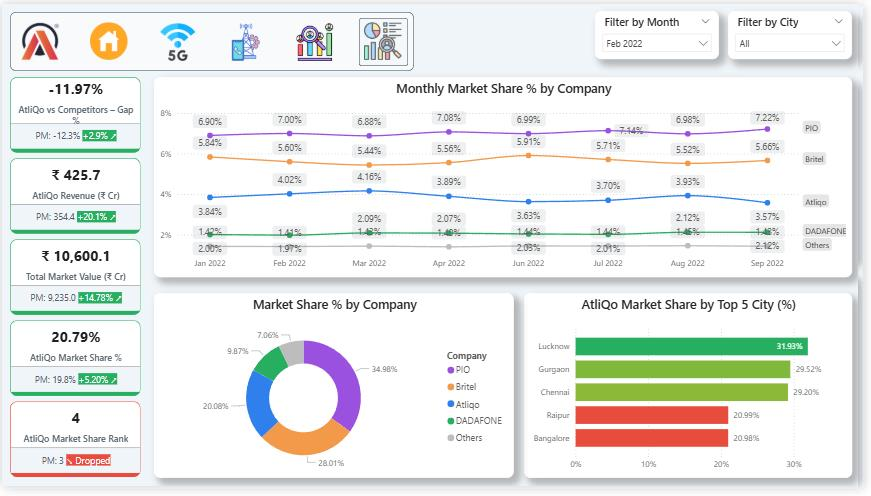

The dashboard page shown, as its layout file describes it:
{"tool":"powerbi","page":{"name":"Market Analysis","canvas":[1280,720],"ordinal":4},"visuals":[{"type":"shape","box":[11.9,11.9,603,88.1],"z":0,"group":"g1"},{"type":"cardVisual","fields":{"Data":["Key_Measures.AtliQo vs Competitors – Gap % (Current Month)","Key_Measures.AtliQo Revenue from Market (Cr) – Current","Key_Measures.Total Market Value (Cr) – Current Month","Key_Measures.AtliQo Market Share % (Current Month)","Key_Measures.AtliQo Market Share Rank (Current)"]},"box":[11.8,108.8,195.6,598.5],"z":0},{"type":"image","box":[23.8,22.3,67.2,65.7],"z":1000,"group":"g1"},{"type":"clusteredBarChart","title":"AtliQo Market Share by Top 5 City (%)","fields":{"Category":["dim_cities.city_name"],"Y":["Key_Measures.AtliQo Market Share % (Current Month)"]},"box":[779.1,431.3,489.6,276.1],"z":1000},{"type":"image","box":[125.9,22.9,67.2,65.7],"z":2000,"group":"g1"},{"type":"donutChart","fields":{"Category":["fact_market_share.company"],"Y":["Key_Measures.Market Share % (Current Month)"]},"box":[226.9,431.3,537.3,276.1],"z":2000},{"type":"image","box":[228,23.2,67.2,65.7],"z":3000,"group":"g1"},{"type":"lineChart","title":"Monthly Market Share % by Company","fields":{"Category":["dim_date.Month Year"],"Y":["Key_Measures.Company Monthly Market Share %"],"Series":["fact_market_share.company"]},"box":[226.9,109,1041.8,298.5],"z":3000},{"type":"slicer","title":"City","fields":{"Values":["dim_date.Month Year"]},"box":[885.1,10.4,185.1,71.6],"z":4000},{"type":"image","box":[330.1,23.5,67.2,65.7],"z":4000,"group":"g1"},{"type":"slicer","title":"City","fields":{"Values":["dim_cities.city_name"]},"box":[1083.8,10.3,185.3,72.1],"z":5000},{"type":"image","box":[432.2,23.8,67.2,65.7],"z":5000,"group":"g1"},{"type":"group","id":"g1","title":"Navigation Pane Group","box":[11.9,11.9,603,88.1],"z":6000},{"type":"image","box":[534.3,22.6,67.2,65.7],"z":6000,"group":"g1"},{"type":"shape","box":[532.8,20.9,73.1,71.6],"z":7000,"group":"g1"},{"type":"actionButton","box":[329.8,23.8,67.2,65.7],"z":8000,"group":"g1"},{"type":"actionButton","box":[431.3,23.8,67.2,65.7],"z":9000,"group":"g1"},{"type":"actionButton","box":[228.3,22.3,67.2,65.7],"z":10000,"group":"g1"},{"type":"actionButton","box":[125.3,22.3,67.2,65.7],"z":11000,"group":"g1"}]}

Visuals, with their boxes in screenshot pixels (x1, y1, x2, y2), scaled from the page's 1280x720 canvas onto the 871x496 screenshot:
shape: [8, 8, 418, 69]
cardVisual - Key_Measures.AtliQo vs Competitors – Gap % (Current Month) x Key_Measures.AtliQo Revenue from Market (Cr) – Current: [8, 75, 141, 487]
image: [16, 15, 62, 61]
"AtliQo Market Share by Top 5 City (%)" clusteredBarChart: [530, 297, 863, 487]
image: [86, 16, 131, 61]
donutChart - fact_market_share.company x Key_Measures.Market Share % (Current Month): [154, 297, 520, 487]
image: [155, 16, 201, 61]
"Monthly Market Share % by Company" lineChart: [154, 75, 863, 281]
"City" slicer: [602, 7, 728, 56]
image: [225, 16, 270, 61]
"City" slicer: [737, 7, 864, 57]
image: [294, 16, 340, 62]
"Navigation Pane Group" group: [8, 8, 418, 69]
image: [364, 16, 409, 61]
shape: [363, 14, 412, 64]
actionButton: [224, 16, 270, 62]
actionButton: [293, 16, 339, 62]
actionButton: [155, 15, 201, 61]
actionButton: [85, 15, 131, 61]
